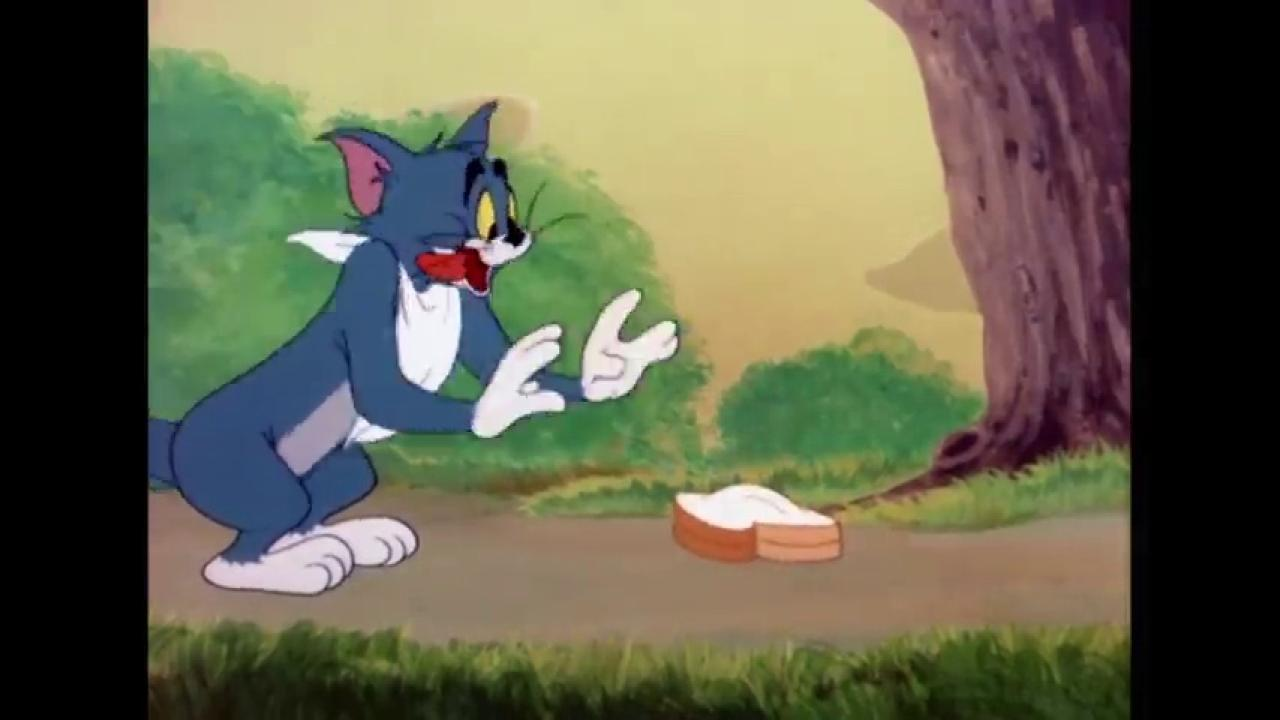Tom: (149, 96, 683, 597)
